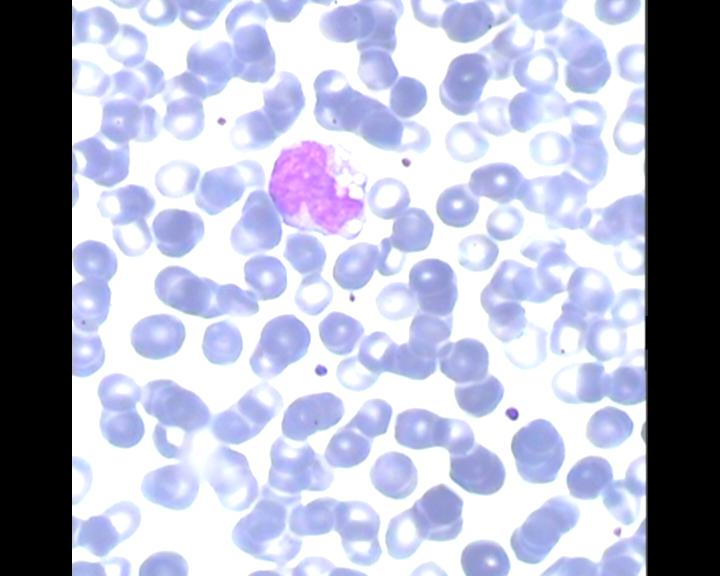mono: (260, 132, 376, 241)
